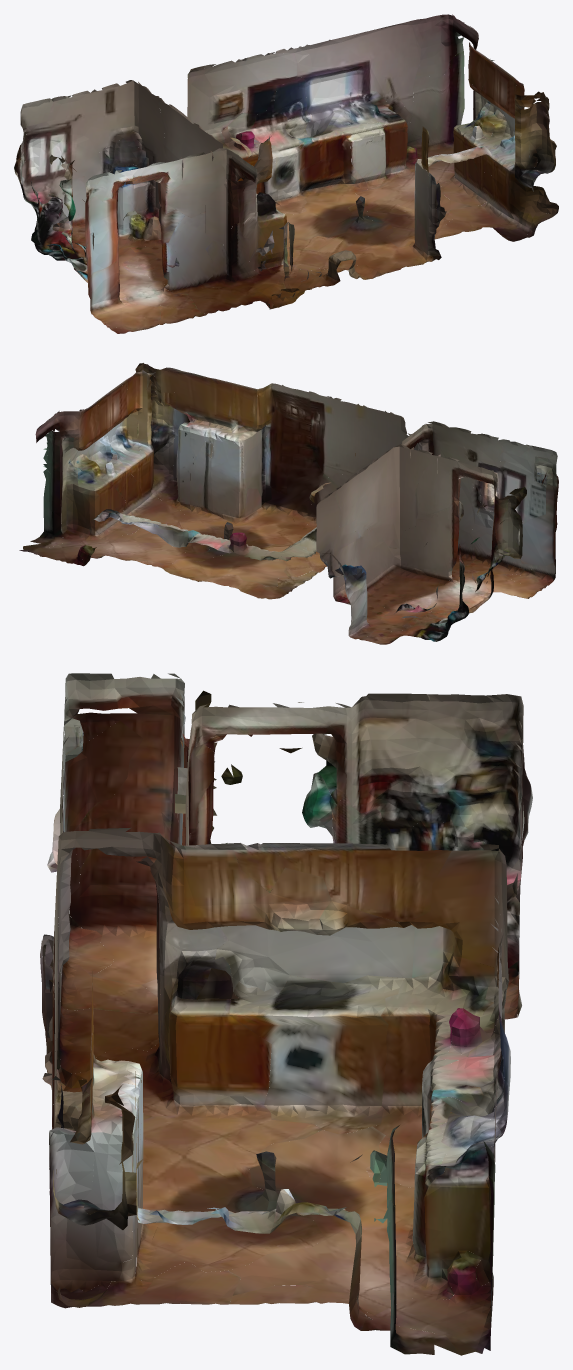
The model's file is esc_baja_muros_02.glb.
3 renders of one model, top to bottom at view 1: azimuth 30°, elevation 25°; view 2: azimuth 150°, elevation 25°; view 3: azimuth 270°, elevation 25°, orthographic. The views are drawn at different scales.
Visible parts, largest first — view 1: muros_Planta_principal_2_GLTF_13, muros_Planta_principal_2_GLTF_11, muros_Planta_principal_2_GLTF_7, muros_Planta_principal_2_GLTF_8, muros_Planta_principal_2_GLTF_1, muros_Planta_principal_2_GLTF_12, muros_Planta_principal_2_GLTF_4, muros_Planta_principal_2_GLTF_2, muros_Planta_principal_2_GLTF_14, muros_Planta_principal_2_GLTF_10, muros_Planta_principal_2_GLTF_5, muros_Planta_principal_2_GLTF_6 (+3 smaller); view 2: muros_Planta_principal_2_GLTF_7, muros_Planta_principal_2_GLTF_5, muros_Planta_principal_2_GLTF_3, muros_Planta_principal_2_GLTF_13, muros_Planta_principal_2_GLTF_14, muros_Planta_principal_2_GLTF_2, muros_Planta_principal_2_GLTF_15, muros_Planta_principal_2_GLTF_11, muros_Planta_principal_2_GLTF_10, muros_Planta_principal_2_GLTF, muros_Planta_principal_2_GLTF_4, muros_Planta_principal_2_GLTF_8 (+4 smaller); view 3: muros_Planta_principal_2_GLTF_14, muros_Planta_principal_2_GLTF_7, muros_Planta_principal_2_GLTF_6, muros_Planta_principal_2_GLTF_11, muros_Planta_principal_2_GLTF_5, muros_Planta_principal_2_GLTF_13, muros_Planta_principal_2_GLTF_2, muros_Planta_principal_2_GLTF_4, muros_Planta_principal_2_GLTF_15, muros_Planta_principal_2_GLTF, muros_Planta_principal_2_GLTF_3, muros_Planta_principal_2_GLTF_8 (+4 smaller).
Part boxes in pixels (<box>): muros_Planta_principal_2_GLTF_13: <box>59,61,558,329</box>; muros_Planta_principal_2_GLTF_11: <box>162,66,471,314</box>; muros_Planta_principal_2_GLTF_7: <box>82,90,514,308</box>; muros_Planta_principal_2_GLTF_8: <box>22,80,279,274</box>; muros_Planta_principal_2_GLTF_1: <box>173,21,549,266</box>; muros_Planta_principal_2_GLTF_12: <box>124,51,541,309</box>; muros_Planta_principal_2_GLTF_4: <box>112,34,557,326</box>; muros_Planta_principal_2_GLTF_2: <box>92,57,529,255</box>; muros_Planta_principal_2_GLTF_14: <box>50,90,515,297</box>; muros_Planta_principal_2_GLTF_10: <box>411,14,556,241</box>; muros_Planta_principal_2_GLTF_5: <box>64,152,446,270</box>; muros_Planta_principal_2_GLTF_6: <box>14,96,340,298</box>; muros_Planta_principal_2_GLTF_7: <box>45,429,526,577</box>; muros_Planta_principal_2_GLTF_5: <box>261,391,505,590</box>; muros_Planta_principal_2_GLTF_3: <box>125,370,508,615</box>; muros_Planta_principal_2_GLTF_13: <box>93,372,554,639</box>; muros_Planta_principal_2_GLTF_14: <box>82,367,546,599</box>; muros_Planta_principal_2_GLTF_2: <box>43,421,529,548</box>; muros_Planta_principal_2_GLTF_15: <box>69,376,558,585</box>; muros_Planta_principal_2_GLTF_11: <box>85,509,476,594</box>; muros_Planta_principal_2_GLTF_10: <box>35,363,195,508</box>; muros_Planta_principal_2_GLTF: <box>66,440,552,644</box>; muros_Planta_principal_2_GLTF_4: <box>19,418,533,580</box>; muros_Planta_principal_2_GLTF_8: <box>316,486,522,623</box>; muros_Planta_principal_2_GLTF_14: <box>42,716,517,1292</box>; muros_Planta_principal_2_GLTF_7: <box>51,690,399,1330</box>; muros_Planta_principal_2_GLTF_6: <box>65,673,523,1119</box>; muros_Planta_principal_2_GLTF_11: <box>49,844,508,1314</box>; muros_Planta_principal_2_GLTF_5: <box>52,737,451,1133</box>; muros_Planta_principal_2_GLTF_13: <box>69,748,517,1304</box>; muros_Planta_principal_2_GLTF_2: <box>49,691,505,1292</box>; muros_Planta_principal_2_GLTF_4: <box>54,961,494,1355</box>; muros_Planta_principal_2_GLTF_15: <box>54,721,362,1169</box>; muros_Planta_principal_2_GLTF: <box>42,722,519,1330</box>; muros_Planta_principal_2_GLTF_3: <box>40,702,351,1172</box>; muros_Planta_principal_2_GLTF_8: <box>161,738,532,1091</box>.
Size of the model in its own units: 8.33 by 2.46 by 4.02.
Materials: 16 (16 with a texture image).
